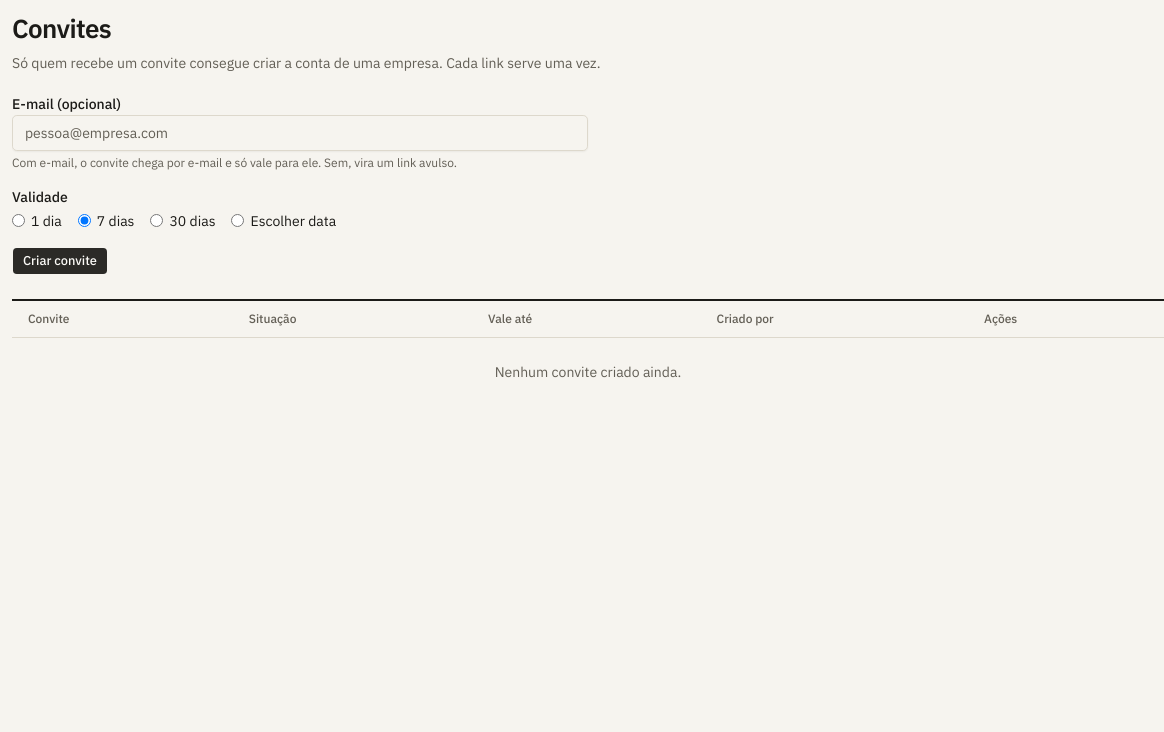
Scenario: B51-01 — Tela de convites › CA-B51-14: should mostrar o link para copiar e o link avulso pendente na lista
The width and height of the screenshot is (1164, 732).
Step 1. Click the button "Criar convite" → (60, 260), box [12, 246, 108, 274]
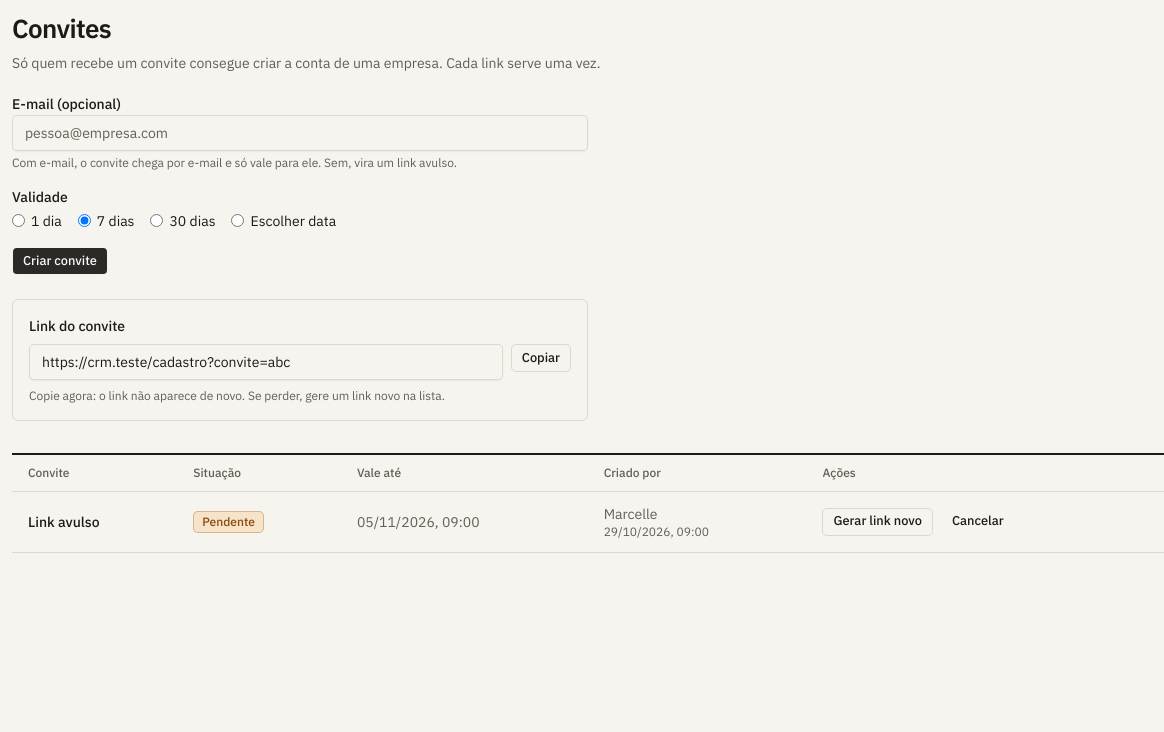
Check: the field named "Link do convite" holds "https://crm.teste/cadastro?convite=abc", box [29, 344, 503, 380]
Check: the button "Copiar" is shown, box [511, 344, 571, 372]
Check: the text "Pendente" is shown, box [193, 510, 264, 532]
